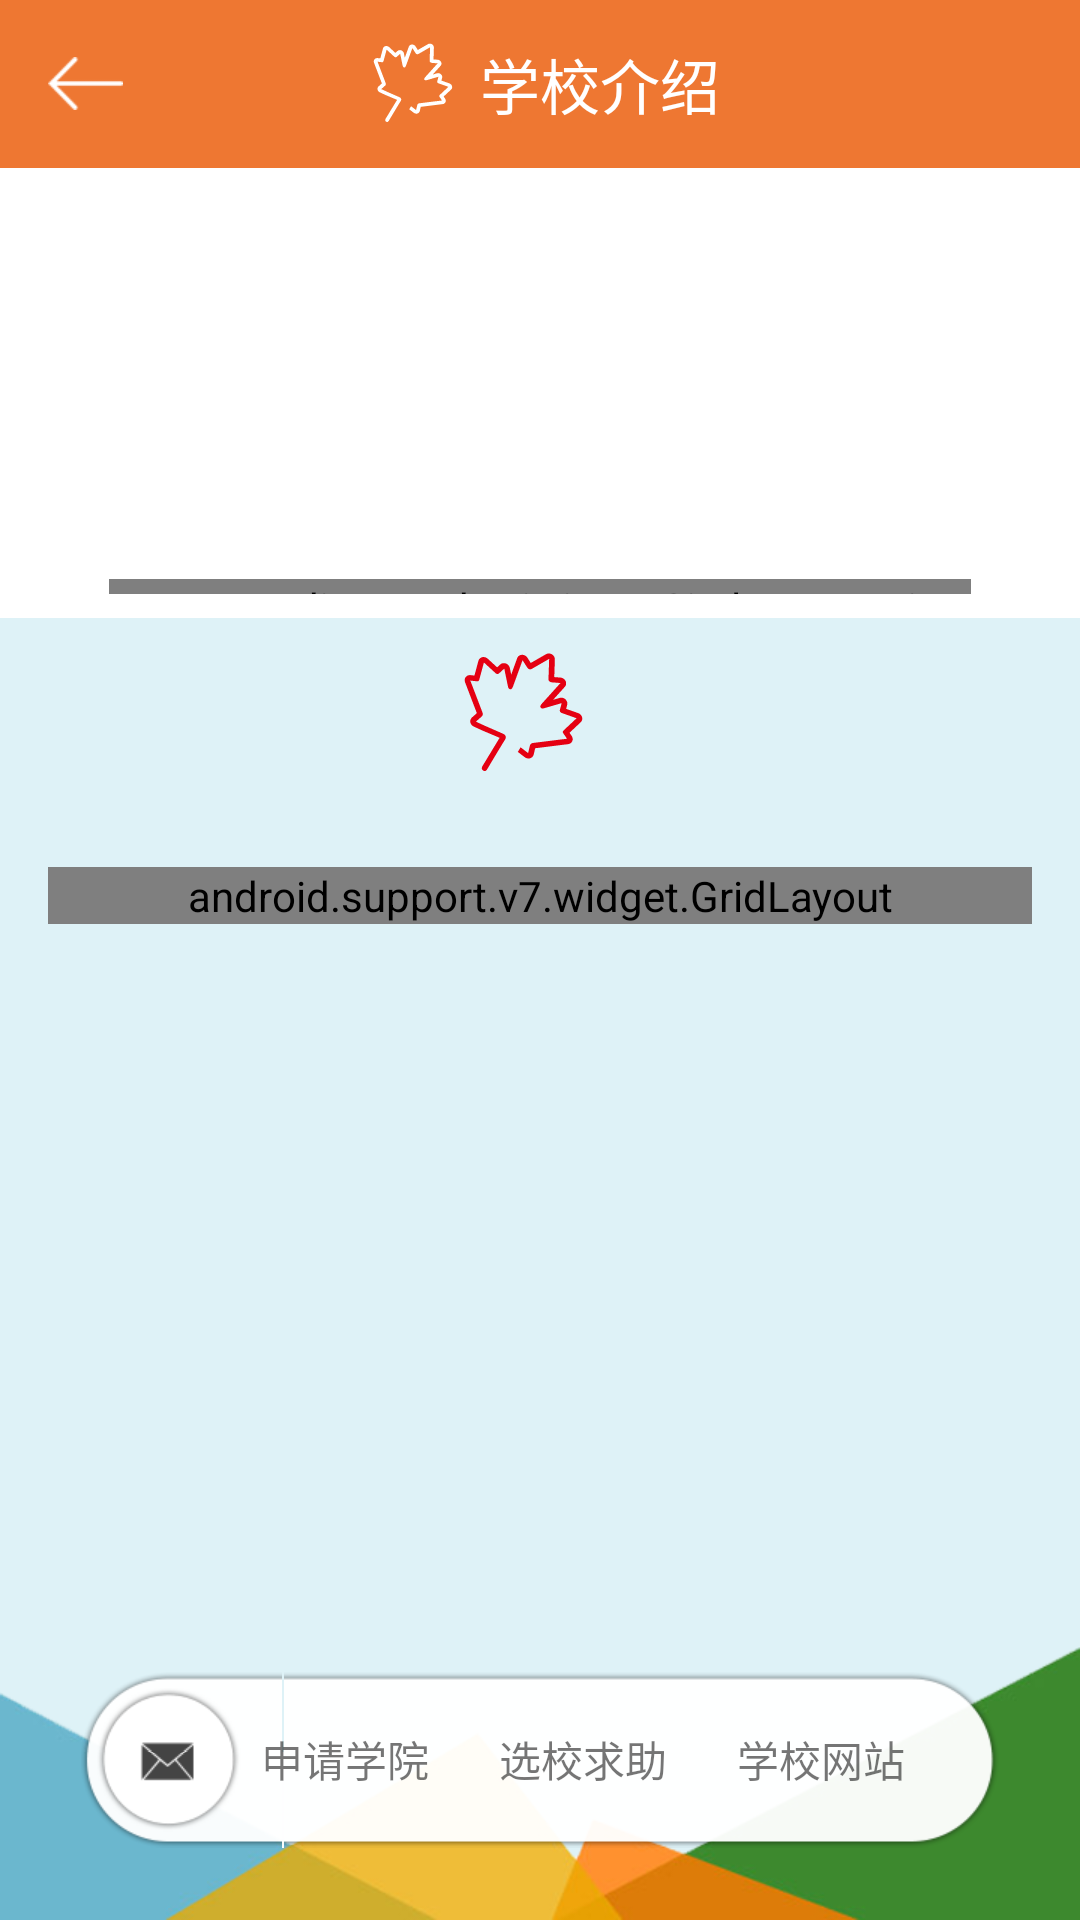

Screen size 1080px×1920px. Icon name, then its box in pixels as (x1, y1, x2, y2):
back: (48, 57, 123, 110)
leaf: (373, 43, 453, 122), (464, 653, 583, 771)
